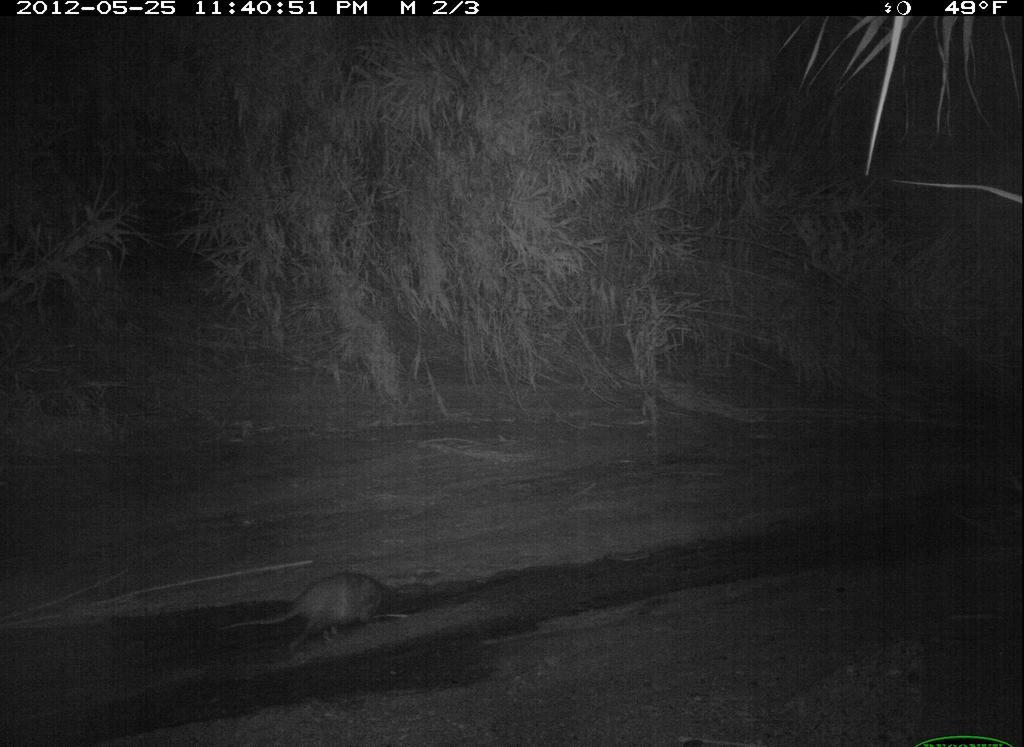opossum: (227, 555, 395, 661)
